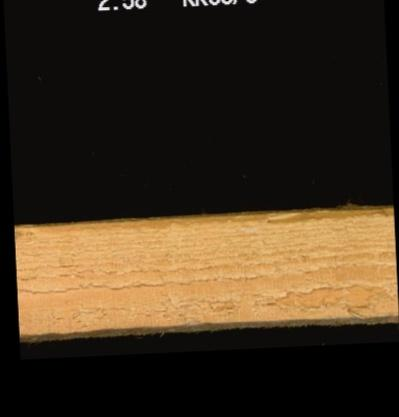wave: (13, 211, 393, 230)
